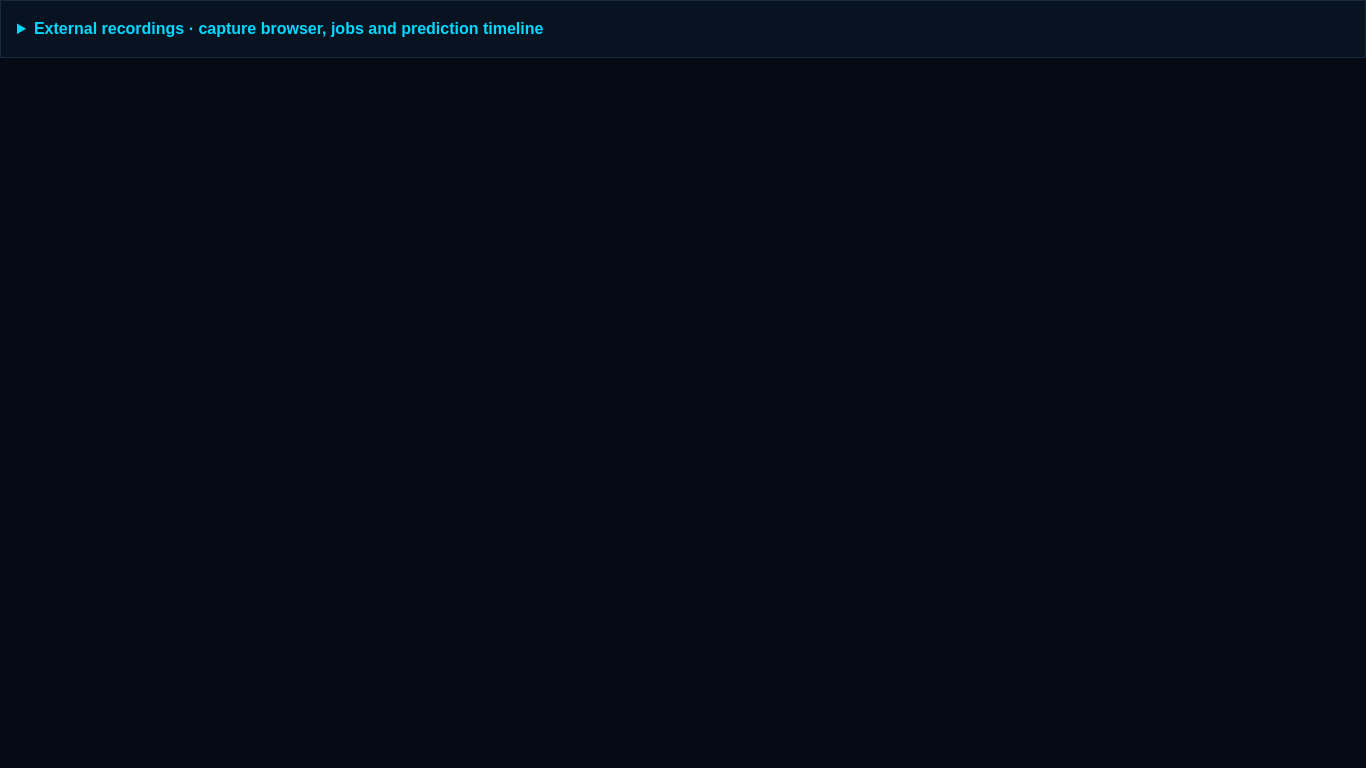
Test case: Phase2 operational controls › surfaces connection errors instead of a fabricated capture
What coordinates should you click on to do the following:
click the heading "External recordings ·"
I would click on:
 (289, 28)
Its box is [34, 20, 543, 37].
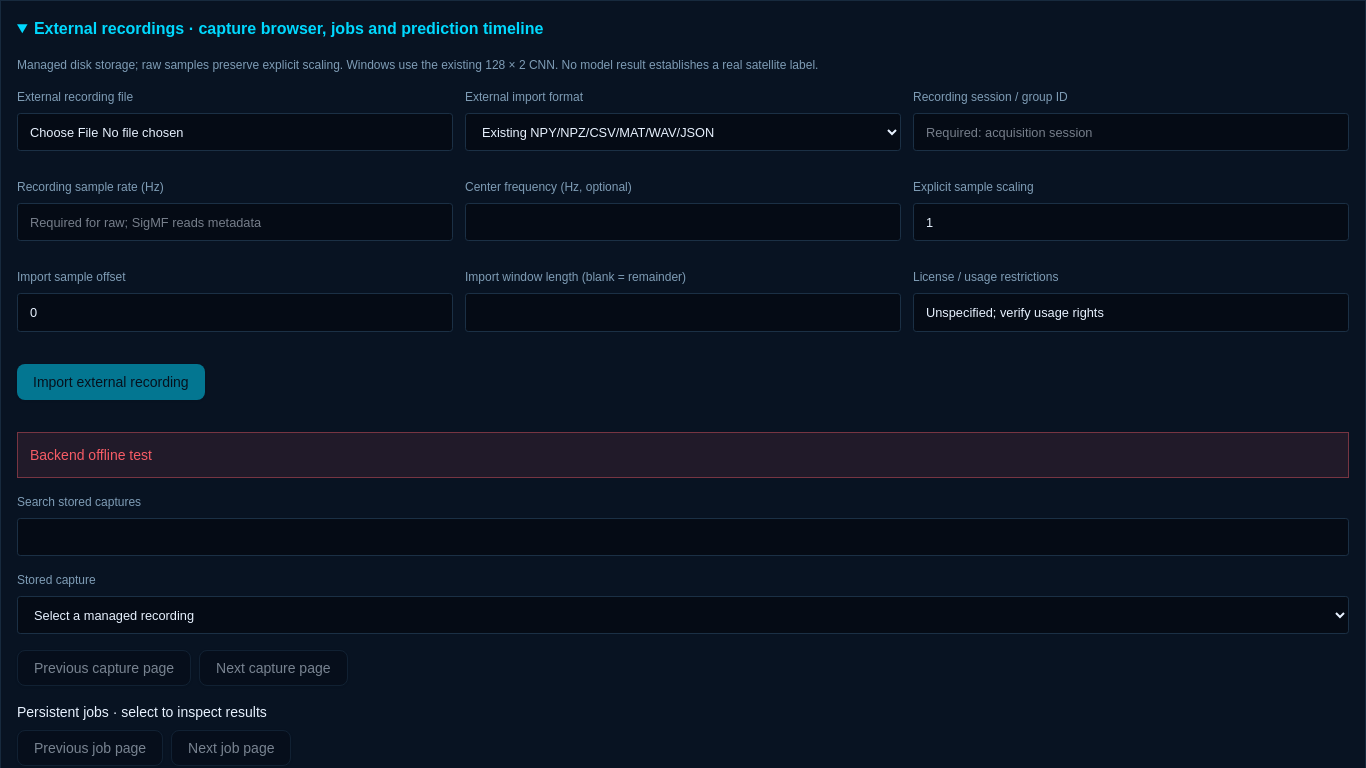
Expected: the text "Backend offline test" is shown, [17, 432, 1349, 478]
